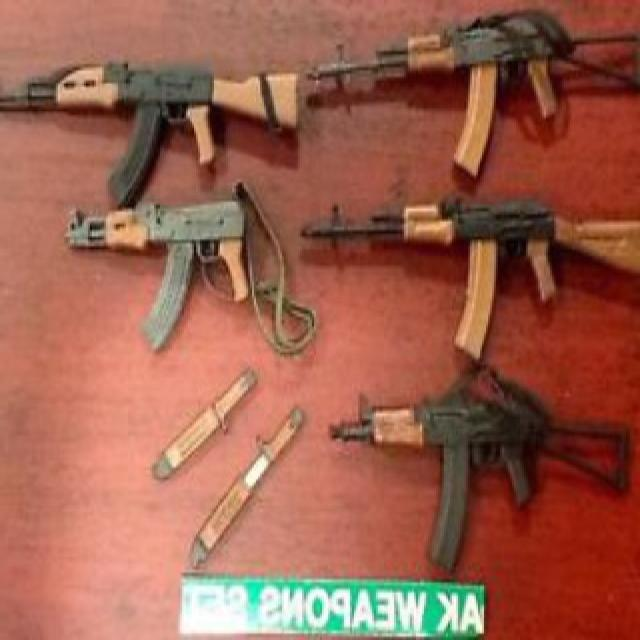rifle: (329, 371, 640, 579), (297, 186, 640, 366), (313, 7, 640, 179), (3, 25, 329, 193), (49, 176, 307, 370)
